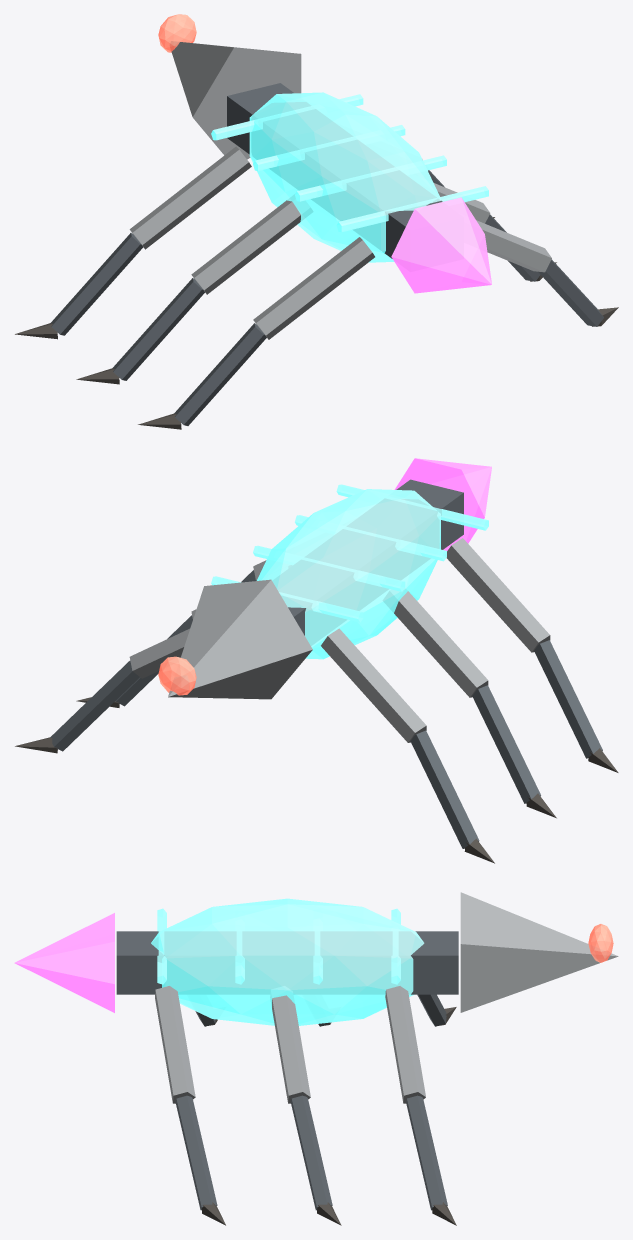
Rendered from 02_grid_rusher.glb.
The picture shows the model from 3 angles, top to bottom: view 1: azimuth 30°, elevation 25°; view 2: azimuth 150°, elevation 25°; view 3: azimuth 270°, elevation 25°; orthographic projection. The views are drawn at different scales.
Visible parts, largest first — view 1: grid_rusher_glowing_core, grid_rusher_forward_lance_head, grid_rusher_rear_thrust_flare, grid_rusher_spindle_upper_leg_-1_0, grid_rusher_spindle_upper_leg_-1_2, grid_rusher_spindle_upper_leg_-1_1, grid_rusher_black_chassis_spine, grid_rusher_spindle_lower_leg_-1_0, grid_rusher_spindle_lower_leg_-1_1, grid_rusher_spindle_lower_leg_-1_2, grid_rusher_spindle_upper_leg_1_2, grid_rusher_spindle_lower_leg_1_2 (+4 smaller); view 2: grid_rusher_glowing_core, grid_rusher_forward_lance_head, grid_rusher_spindle_upper_leg_-1_0, grid_rusher_spindle_upper_leg_-1_2, grid_rusher_spindle_upper_leg_-1_1, grid_rusher_rear_thrust_flare, grid_rusher_spindle_lower_leg_-1_2, grid_rusher_spindle_lower_leg_-1_1, grid_rusher_spindle_lower_leg_-1_0, grid_rusher_spindle_lower_leg_1_0, grid_rusher_black_chassis_spine, grid_rusher_spindle_upper_leg_1_0 (+4 smaller); view 3: grid_rusher_glowing_core, grid_rusher_forward_lance_head, grid_rusher_black_chassis_spine, grid_rusher_rear_thrust_flare, grid_rusher_spindle_upper_leg_1_0, grid_rusher_spindle_upper_leg_1_2, grid_rusher_spindle_upper_leg_1_1, grid_rusher_spindle_lower_leg_1_2, grid_rusher_spindle_lower_leg_1_0, grid_rusher_spindle_lower_leg_1_1, grid_rusher_scanner_eye, grid_rusher_spindle_lower_leg_-1_0 (+1 smaller).
Boxes of the visible parts, left/top/right/bottom form: grid_rusher_glowing_core: left=249, top=92, right=439, bottom=262; grid_rusher_forward_lance_head: left=171, top=42, right=301, bottom=159; grid_rusher_rear_thrust_flare: left=391, top=197, right=491, bottom=293; grid_rusher_spindle_upper_leg_-1_0: left=129, top=146, right=251, bottom=249; grid_rusher_spindle_upper_leg_-1_2: left=253, top=237, right=374, bottom=339; grid_rusher_spindle_upper_leg_-1_1: left=191, top=200, right=300, bottom=294; grid_rusher_black_chassis_spine: left=227, top=83, right=442, bottom=258; grid_rusher_spindle_lower_leg_-1_0: left=51, top=233, right=143, bottom=335; grid_rusher_spindle_lower_leg_-1_1: left=112, top=278, right=204, bottom=380; grid_rusher_spindle_lower_leg_-1_2: left=174, top=323, right=266, bottom=425; grid_rusher_spindle_upper_leg_1_2: left=476, top=220, right=551, bottom=272; grid_rusher_spindle_lower_leg_1_2: left=538, top=259, right=603, bottom=326; grid_rusher_glowing_core: left=257, top=489, right=440, bottom=659; grid_rusher_forward_lance_head: left=168, top=579, right=312, bottom=699; grid_rusher_spindle_upper_leg_-1_0: left=321, top=628, right=426, bottom=742; grid_rusher_spindle_upper_leg_-1_2: left=447, top=538, right=550, bottom=652; grid_rusher_spindle_upper_leg_-1_1: left=394, top=591, right=488, bottom=697; grid_rusher_rear_thrust_flare: left=394, top=458, right=491, bottom=550; grid_rusher_spindle_lower_leg_-1_2: left=534, top=640, right=602, bottom=758; grid_rusher_spindle_lower_leg_-1_1: left=472, top=685, right=540, bottom=803; grid_rusher_spindle_lower_leg_-1_0: left=410, top=730, right=479, bottom=848; grid_rusher_spindle_lower_leg_1_0: left=50, top=660, right=139, bottom=751; grid_rusher_black_chassis_spine: left=288, top=479, right=463, bottom=635; grid_rusher_spindle_upper_leg_1_0: left=129, top=628, right=189, bottom=678; grid_rusher_glowing_core: left=151, top=898, right=424, bottom=1025; grid_rusher_forward_lance_head: left=460, top=892, right=618, bottom=1012; grid_rusher_black_chassis_spine: left=116, top=931, right=458, bottom=994; grid_rusher_rear_thrust_flare: left=14, top=913, right=114, bottom=1012; grid_rusher_spindle_upper_leg_1_0: left=385, top=986, right=425, bottom=1103; grid_rusher_spindle_upper_leg_1_2: left=155, top=986, right=195, bottom=1103; grid_rusher_spindle_upper_leg_1_1: left=272, top=995, right=310, bottom=1103; grid_rusher_spindle_lower_leg_1_2: left=175, top=1095, right=217, bottom=1210; grid_rusher_spindle_lower_leg_1_0: left=406, top=1095, right=447, bottom=1210; grid_rusher_spindle_lower_leg_1_1: left=290, top=1095, right=332, bottom=1210; grid_rusher_scanner_eye: left=588, top=924, right=613, bottom=962; grid_rusher_spindle_lower_leg_-1_0: left=417, top=994, right=446, bottom=1026.
Size of the model in its own units: 1.44 by 0.675 by 1.68.
